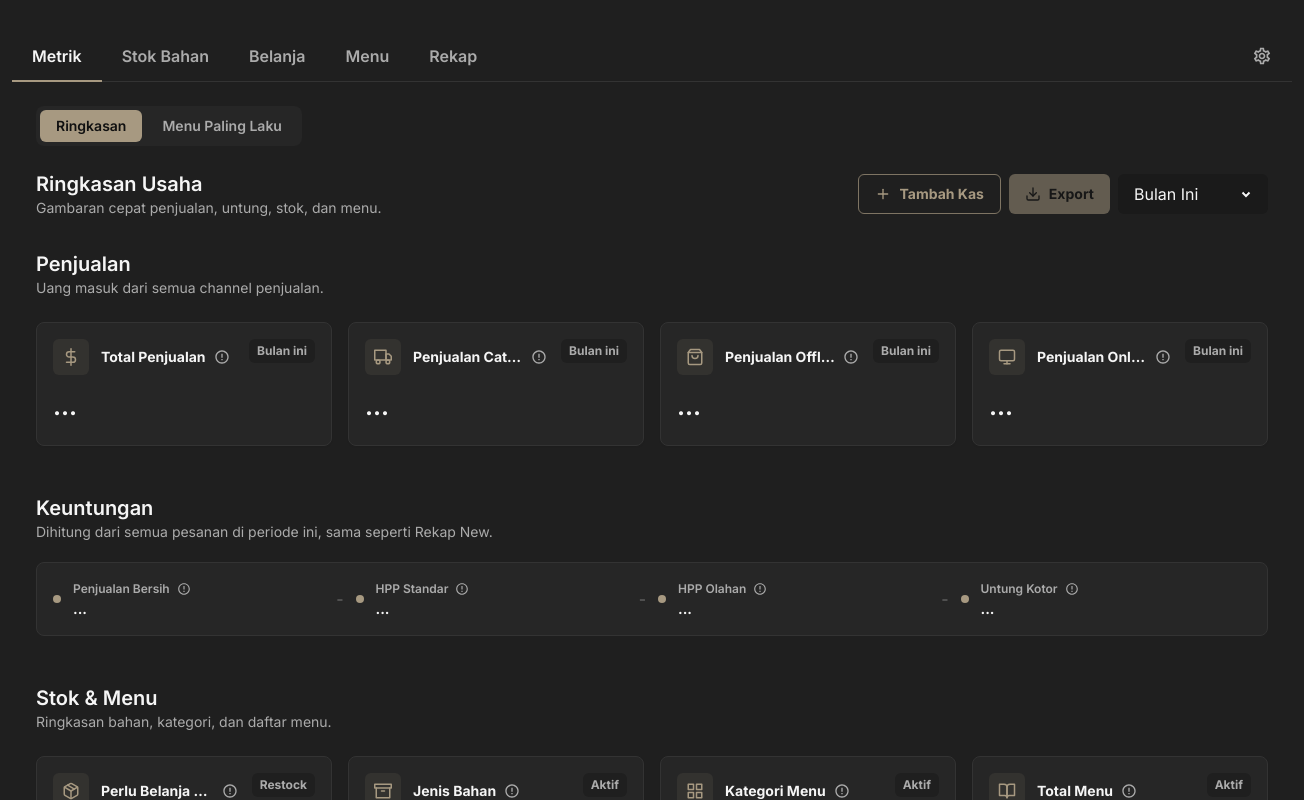
Test: dashboard menus: Stok Bahan holds what is on hand, Belanja the purchases › keeps only bahan baku and bahan olahan under Stok Bahan
Step 1. Click the button "Stok Bahan" → click(165, 57), box [102,32,229,82]
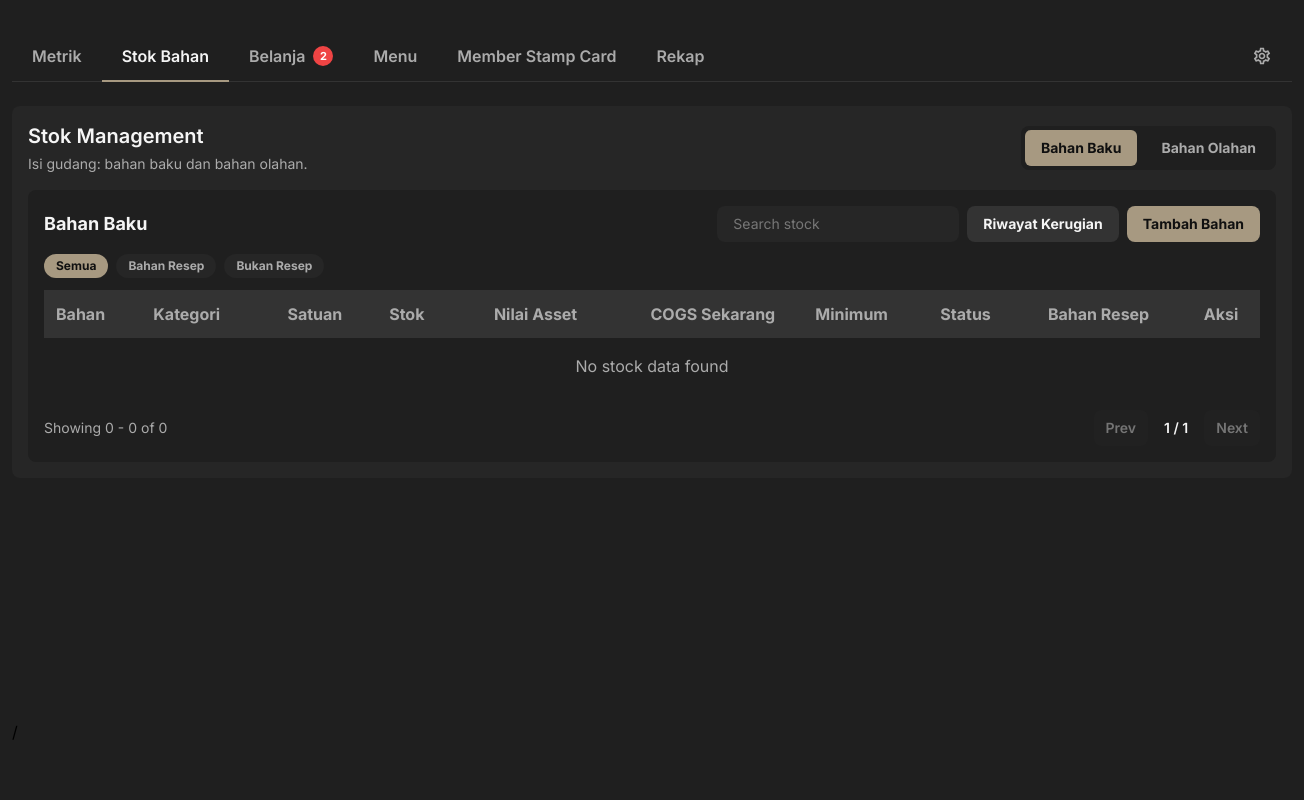
Now the button "Bahan Baku" is shown, box [1025,130,1138,166]
Now the button "Bahan Olahan" is shown, box [1146,130,1272,166]
